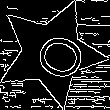O_NW: (19, 23, 84, 83)
